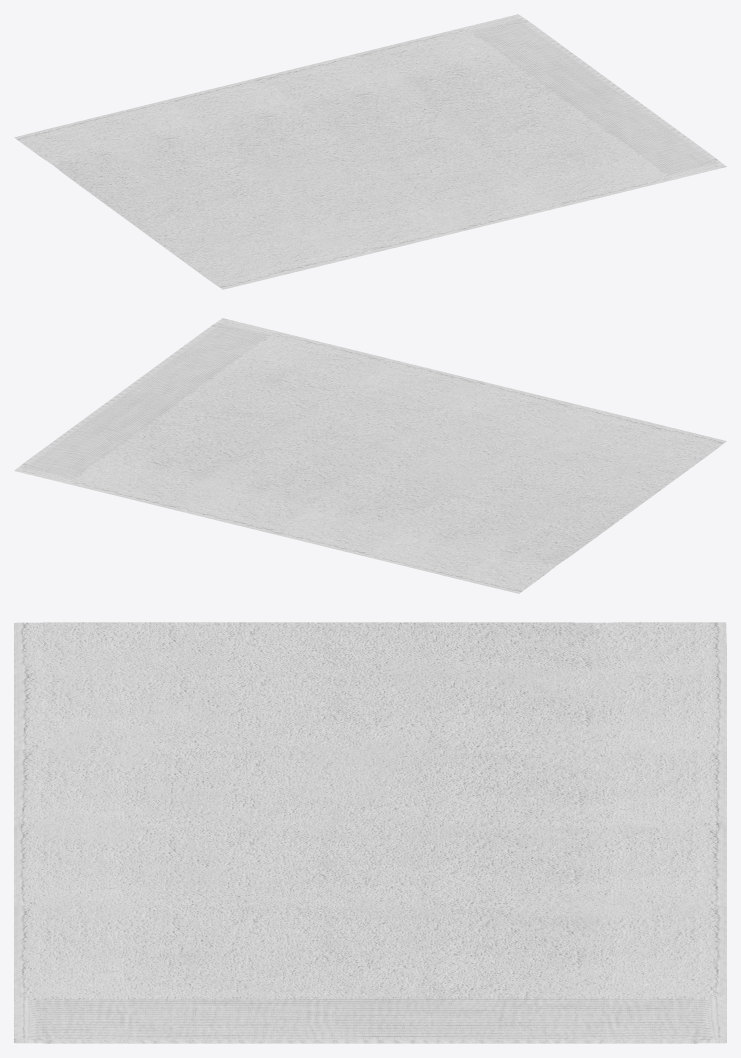
The model's file is TowelUpdated.fbx.
3 views of the same model, one above another, from view 1: azimuth 30°, elevation 25°; view 2: azimuth 150°, elevation 25°; view 3: azimuth 270°, elevation 25° (orthographic). The views are drawn at different scales.
Parts seen in each view (by area): view 1: Plane; view 2: Plane; view 3: Plane.
Part boxes in pixels (x1=…): Plane: x1=14, y1=14, x2=726, y2=289; Plane: x1=14, y1=318, x2=726, y2=593; Plane: x1=14, y1=622, x2=726, y2=1043.
Size of the model in its own units: 279 by 0.067 by 200.
Materials: 1 (1 with a texture image).
